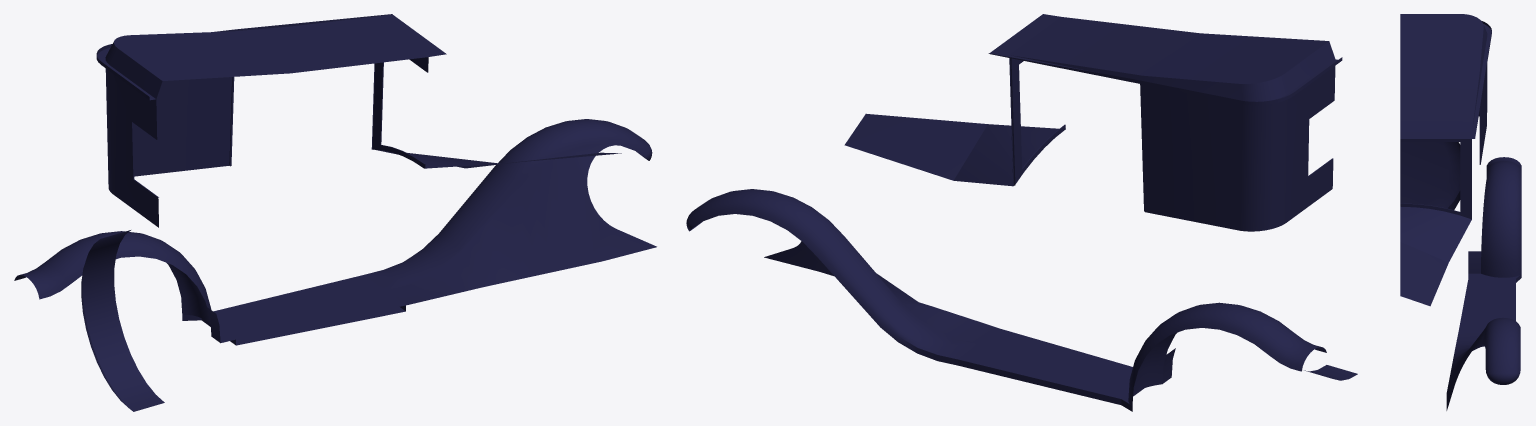
The model's file is car3.obj.
3 views of the same model, side by side, from view 1: azimuth 30°, elevation 25°; view 2: azimuth 150°, elevation 25°; view 3: azimuth 270°, elevation 25° (orthographic). The views are drawn at different scales.
Parts seen in each view (by area): view 1: carosserieBleue.001_carosserieBleue; view 2: carosserieBleue.001_carosserieBleue; view 3: carosserieBleue.001_carosserieBleue.
Part boxes in pixels (x1=…): carosserieBleue.001_carosserieBleue: x1=14, y1=14, x2=656, y2=411; carosserieBleue.001_carosserieBleue: x1=686, y1=14, x2=1357, y2=411; carosserieBleue.001_carosserieBleue: x1=1400, y1=14, x2=1521, y2=410.
Size of the model in its own units: 21.37 by 10.88 by 5.24.
